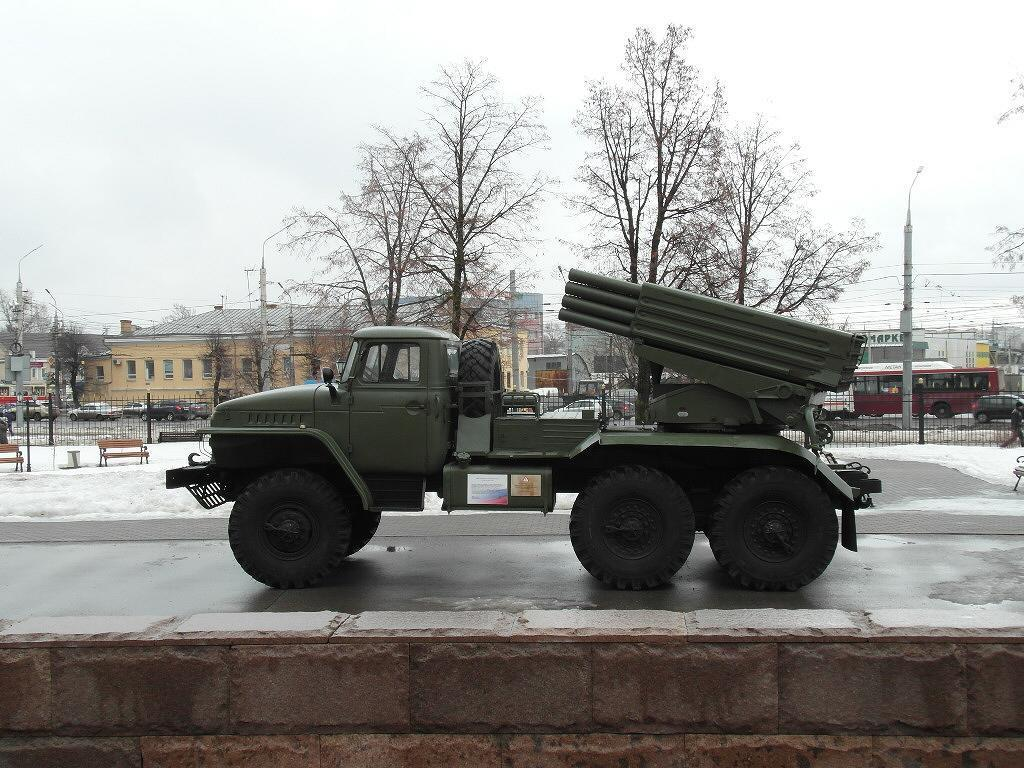car: (971, 392, 1024, 426), (70, 397, 126, 426), (9, 396, 61, 427), (137, 396, 193, 424), (601, 396, 637, 426)
rszo: (190, 254, 895, 606)
